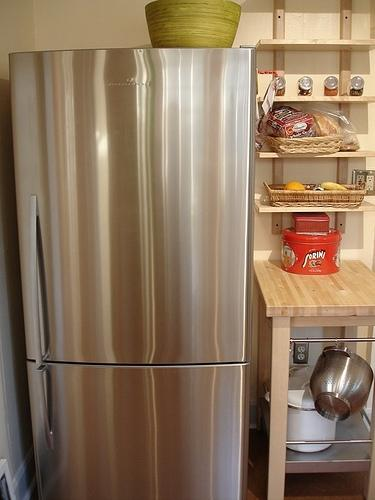banana: (320, 182, 348, 190)
